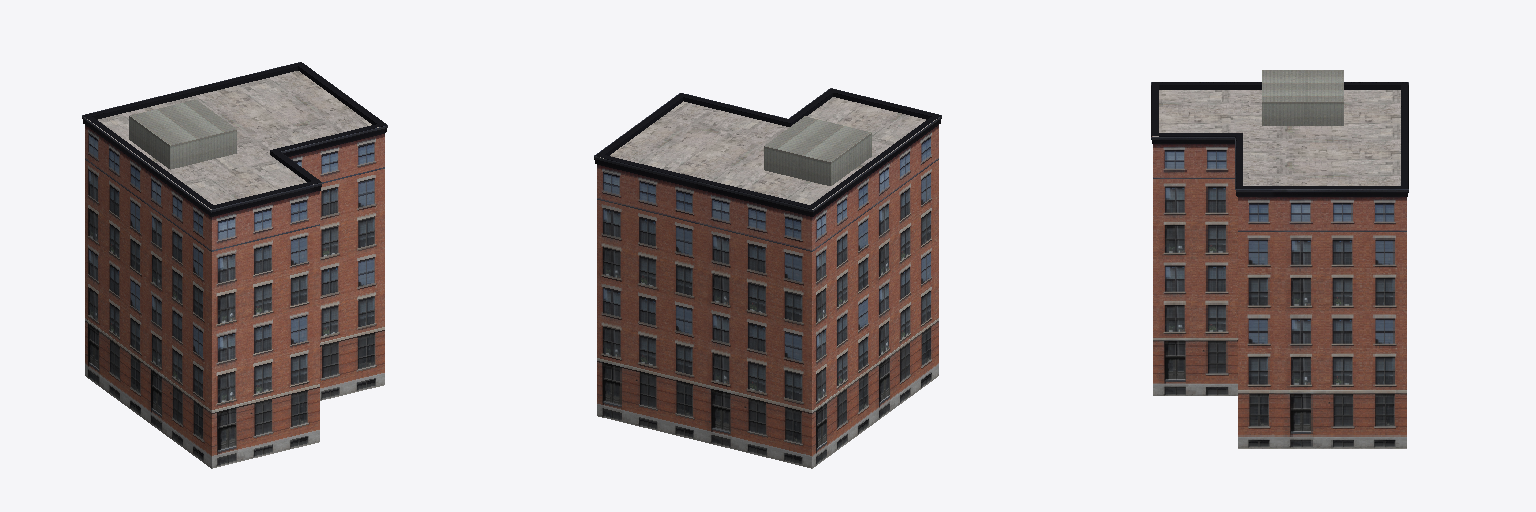
3 views of the same model, side by side, from view 1: azimuth 30°, elevation 25°; view 2: azimuth 150°, elevation 25°; view 3: azimuth 270°, elevation 25° (orthographic).
Parts seen in each view (by area): view 1: building_4; view 2: building_4; view 3: building_4.
Part boxes in pixels (left/top/right/bottom): building_4: left=82, top=62, right=387, bottom=468; building_4: left=594, top=88, right=941, bottom=468; building_4: left=1151, top=70, right=1408, bottom=448.
Size of the model in its own units: 59.45 by 72.4 by 60.51.
Materials: 1 (1 with a texture image).